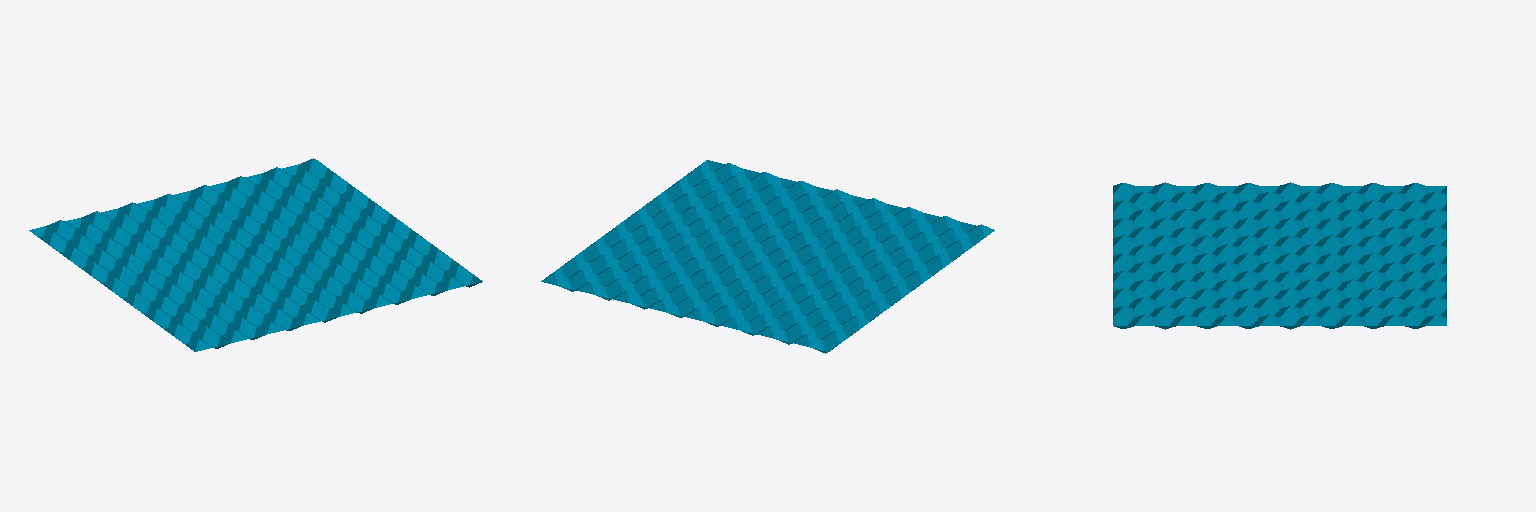
The picture shows the model from 3 angles: view 1: azimuth 30°, elevation 25°; view 2: azimuth 150°, elevation 25°; view 3: azimuth 270°, elevation 25°; orthographic projection.
Parts seen in each view (by area): view 1: Plane_Plane.002; view 2: Plane_Plane.002; view 3: Plane_Plane.002.
Part boxes in pixels (x1,y1,x2,y2): Plane_Plane.002: (29,158,482,351); Plane_Plane.002: (541,160,994,353); Plane_Plane.002: (1113,182,1446,329).
Size of the model in its own units: 20 by 1 by 20.
1 materials, 1 textured.